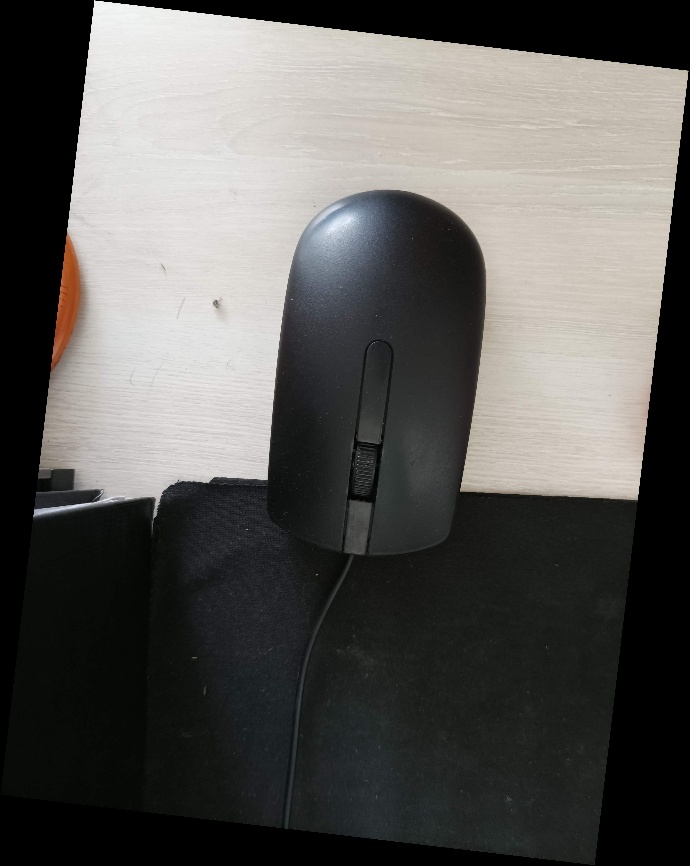mouse: (254, 182, 492, 569)
